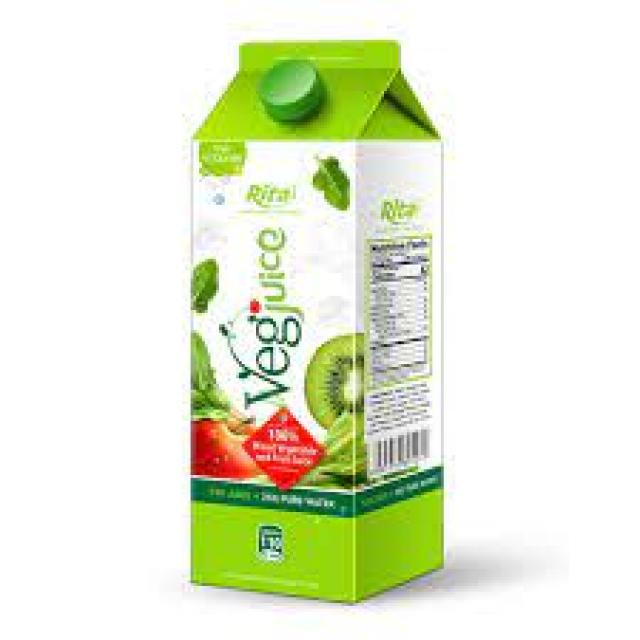non_white_jug: (166, 80, 428, 586)
